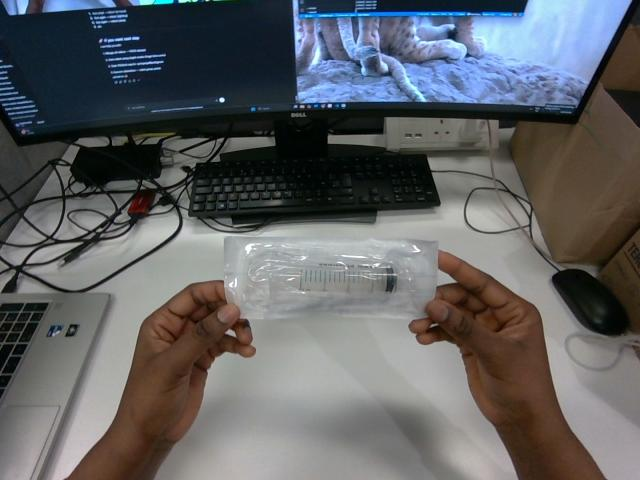syringe: (224, 236, 437, 319)
